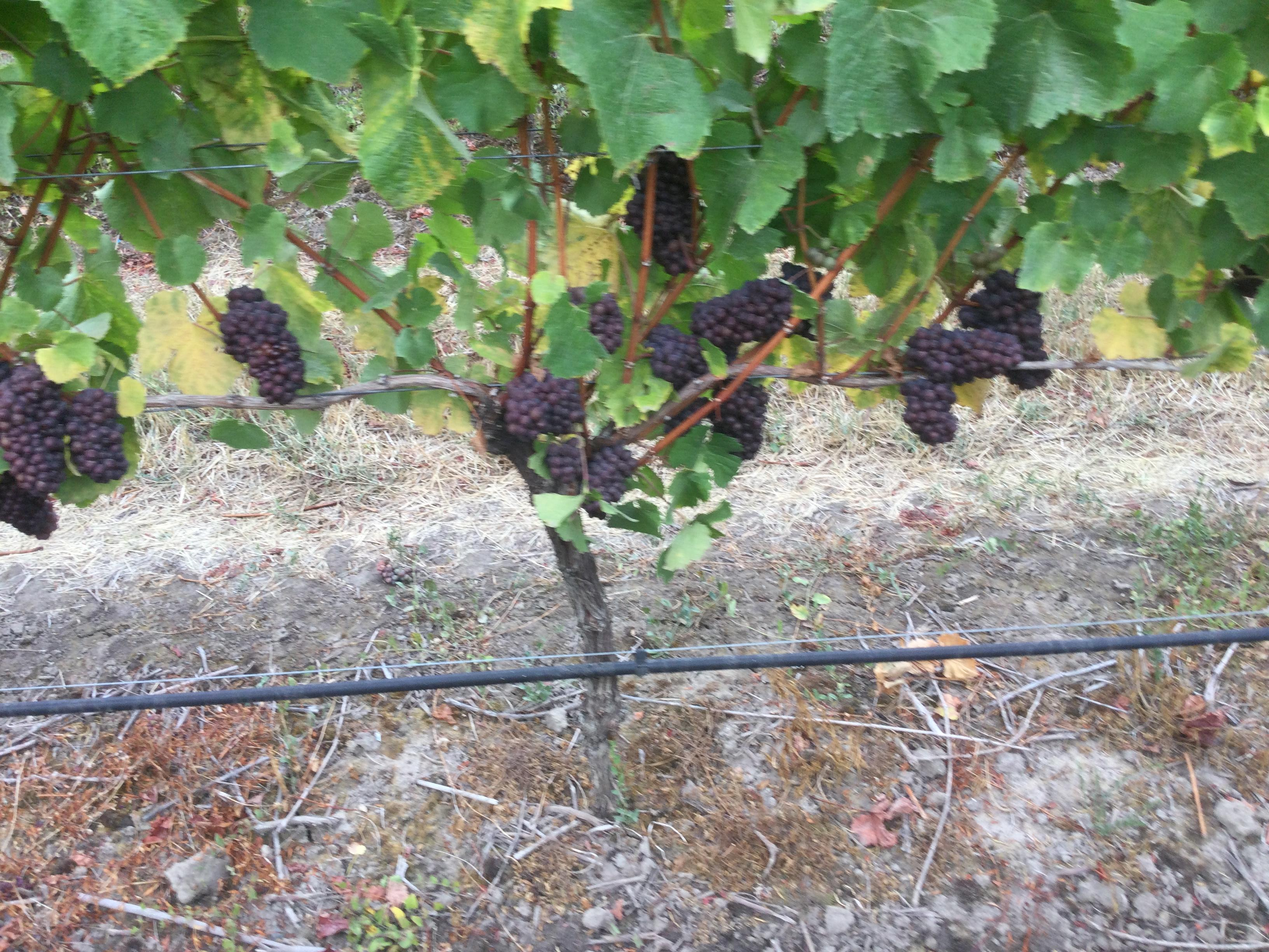leaf: (558, 0, 711, 170), (825, 0, 997, 138), (966, 0, 1131, 128), (358, 14, 459, 206), (182, 0, 281, 142), (41, 0, 190, 83), (138, 291, 241, 394), (462, 0, 571, 97), (248, 0, 366, 84), (1146, 33, 1246, 132), (432, 42, 526, 133), (694, 120, 753, 250), (1116, 0, 1192, 100), (736, 127, 805, 234), (1200, 136, 1268, 237), (255, 262, 333, 350), (1099, 125, 1193, 192), (93, 72, 179, 142), (1133, 190, 1198, 277), (1017, 221, 1095, 293), (542, 295, 607, 376), (933, 105, 1000, 181), (132, 175, 215, 236), (96, 179, 159, 252), (1182, 322, 1256, 378), (325, 200, 393, 260), (1198, 199, 1255, 268), (1090, 308, 1168, 358), (30, 42, 93, 103), (237, 203, 294, 266), (776, 19, 827, 88), (1200, 97, 1257, 158), (138, 115, 193, 178), (572, 156, 629, 216), (657, 521, 713, 580), (35, 330, 96, 383), (731, 0, 776, 63), (155, 234, 206, 285), (264, 119, 308, 177), (428, 212, 478, 262), (601, 500, 661, 537), (208, 418, 271, 449), (0, 294, 39, 342), (532, 493, 584, 528), (395, 327, 437, 368), (409, 390, 447, 435), (0, 87, 16, 185), (530, 271, 567, 308), (1253, 86, 1268, 136), (0, 176, 2, 180), (469, 36, 470, 41), (0, 139, 2, 141), (569, 149, 572, 150), (243, 37, 245, 38), (103, 70, 104, 71)
